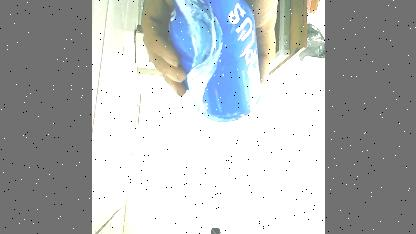Plastic Bottle: (150, 0, 264, 133)
